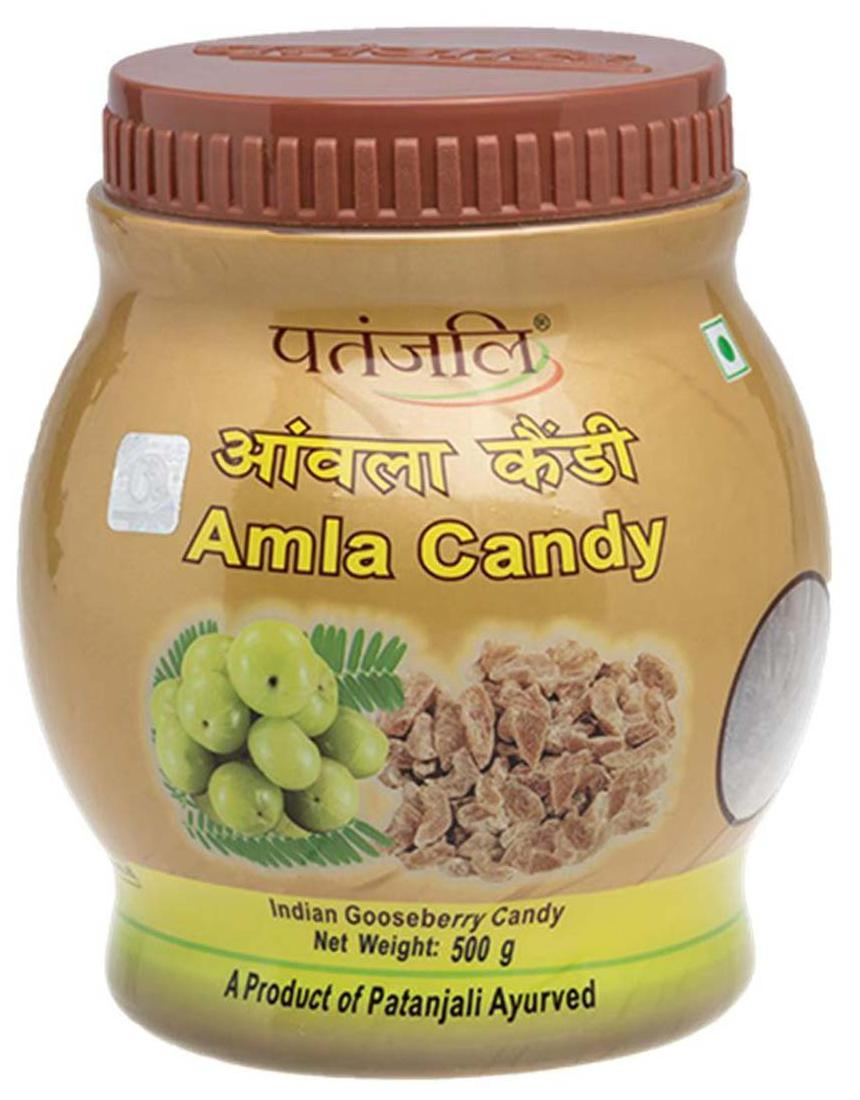JAR: (7, 16, 842, 1082)
